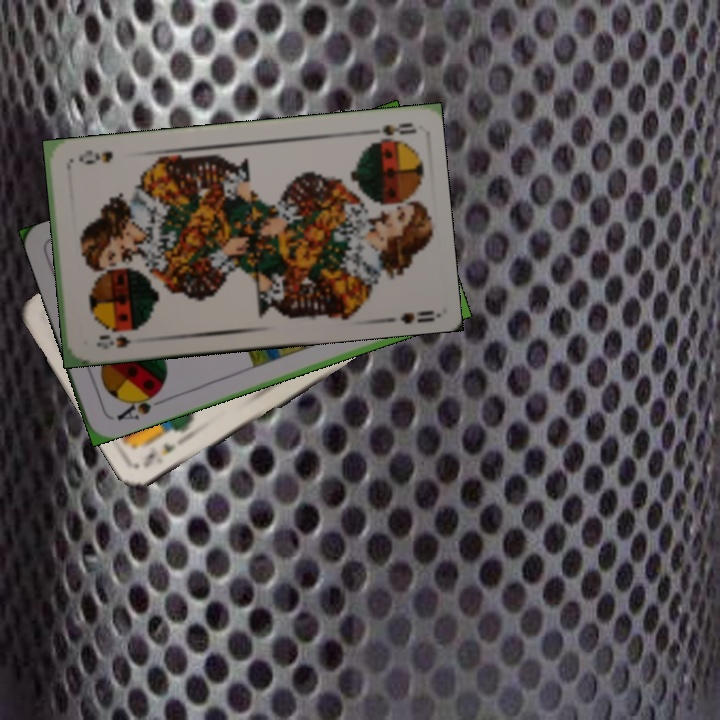EK: (139, 439, 178, 470)
SA: (112, 386, 167, 423)
SO: (358, 118, 417, 143), (93, 325, 142, 352)
